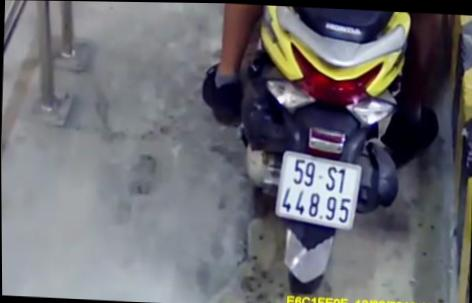LP: (274, 149, 363, 230)
